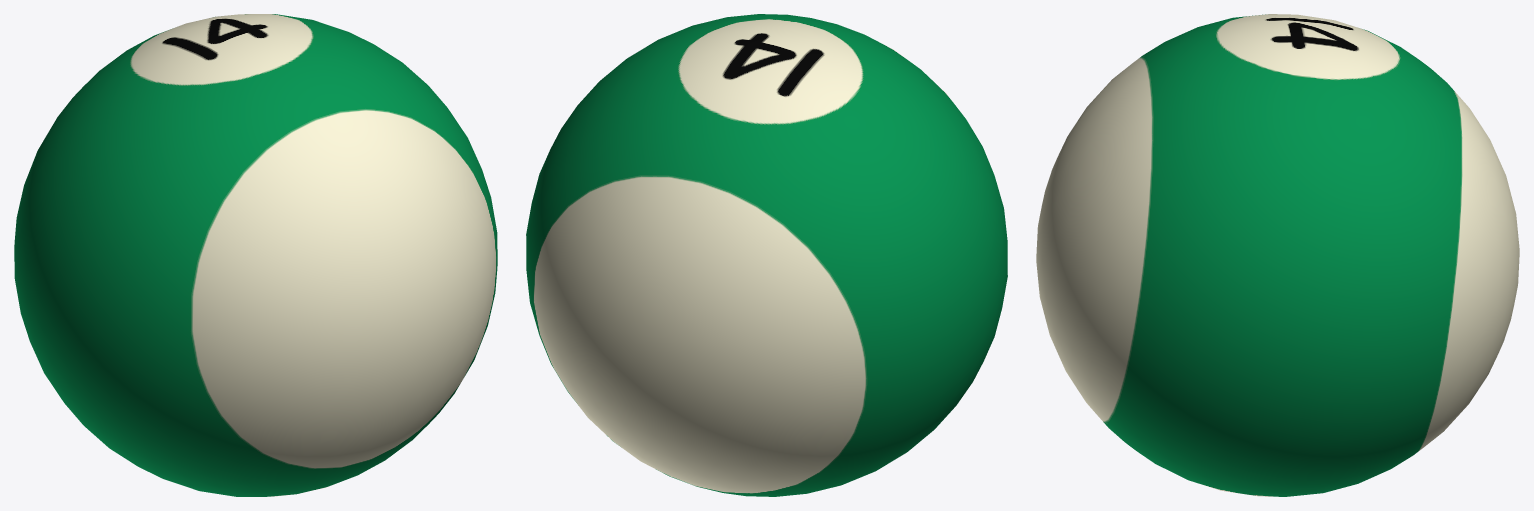
The model's file is bola9.obj.
3 renders of one model, left to right at view 1: azimuth 30°, elevation 25°; view 2: azimuth 150°, elevation 25°; view 3: azimuth 270°, elevation 25°, orthographic.
Parts seen in each view (by area): view 1: 14_Ball; view 2: 14_Ball; view 3: 14_Ball.
Part boxes in pixels (x1,y1,x2,y2): 14_Ball: (14,14,497,496); 14_Ball: (526,14,1007,496); 14_Ball: (1036,14,1519,496).
Bounding box in the file's own units: 0.0508 × 0.0509 × 0.0509.
Materials: 1 (1 with a texture image).
